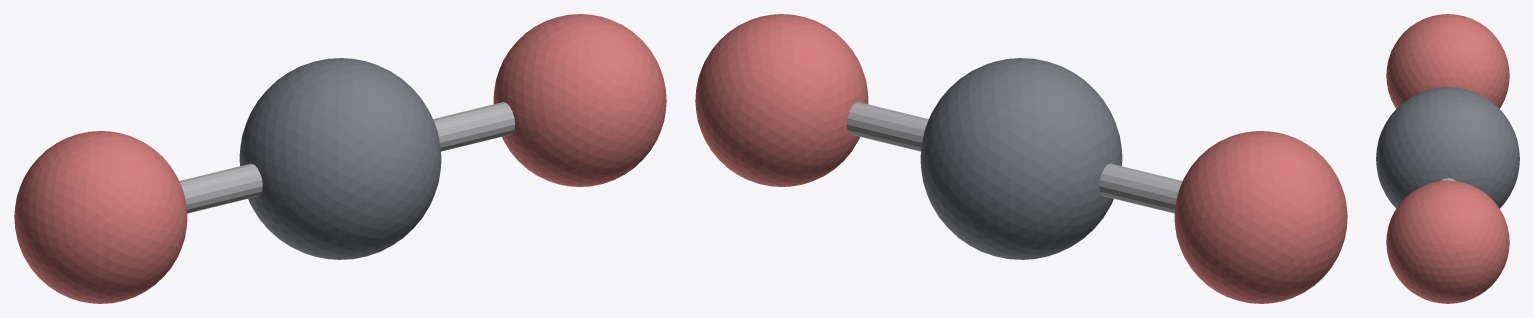
File: carbon_dioxide.glb
3 views of the same model, side by side, from view 1: azimuth 30°, elevation 25°; view 2: azimuth 150°, elevation 25°; view 3: azimuth 270°, elevation 25° (orthographic). The views are drawn at different scales.
Visible parts, largest first — view 1: C_1, O_0, O_2, bond_0, bond_1; view 2: C_1, O_0, O_2, bond_0, bond_1; view 3: C_1, O_2, O_0.
Boxes of the visible parts, x1=… form: C_1: x1=239, y1=58, x2=441, y2=259; O_0: x1=14, y1=131, x2=187, y2=303; O_2: x1=493, y1=14, x2=666, y2=186; bond_0: x1=179, y1=163, x2=262, y2=213; bond_1: x1=433, y1=102, x2=514, y2=151; C_1: x1=920, y1=58, x2=1122, y2=259; O_0: x1=1174, y1=131, x2=1347, y2=303; O_2: x1=695, y1=14, x2=868, y2=186; bond_0: x1=1099, y1=163, x2=1182, y2=213; bond_1: x1=847, y1=102, x2=928, y2=151; C_1: x1=1376, y1=87, x2=1519, y2=208; O_2: x1=1386, y1=180, x2=1509, y2=303; O_0: x1=1386, y1=14, x2=1509, y2=108.
Size of the model in its own units: 3.02 by 0.84 by 0.84.
